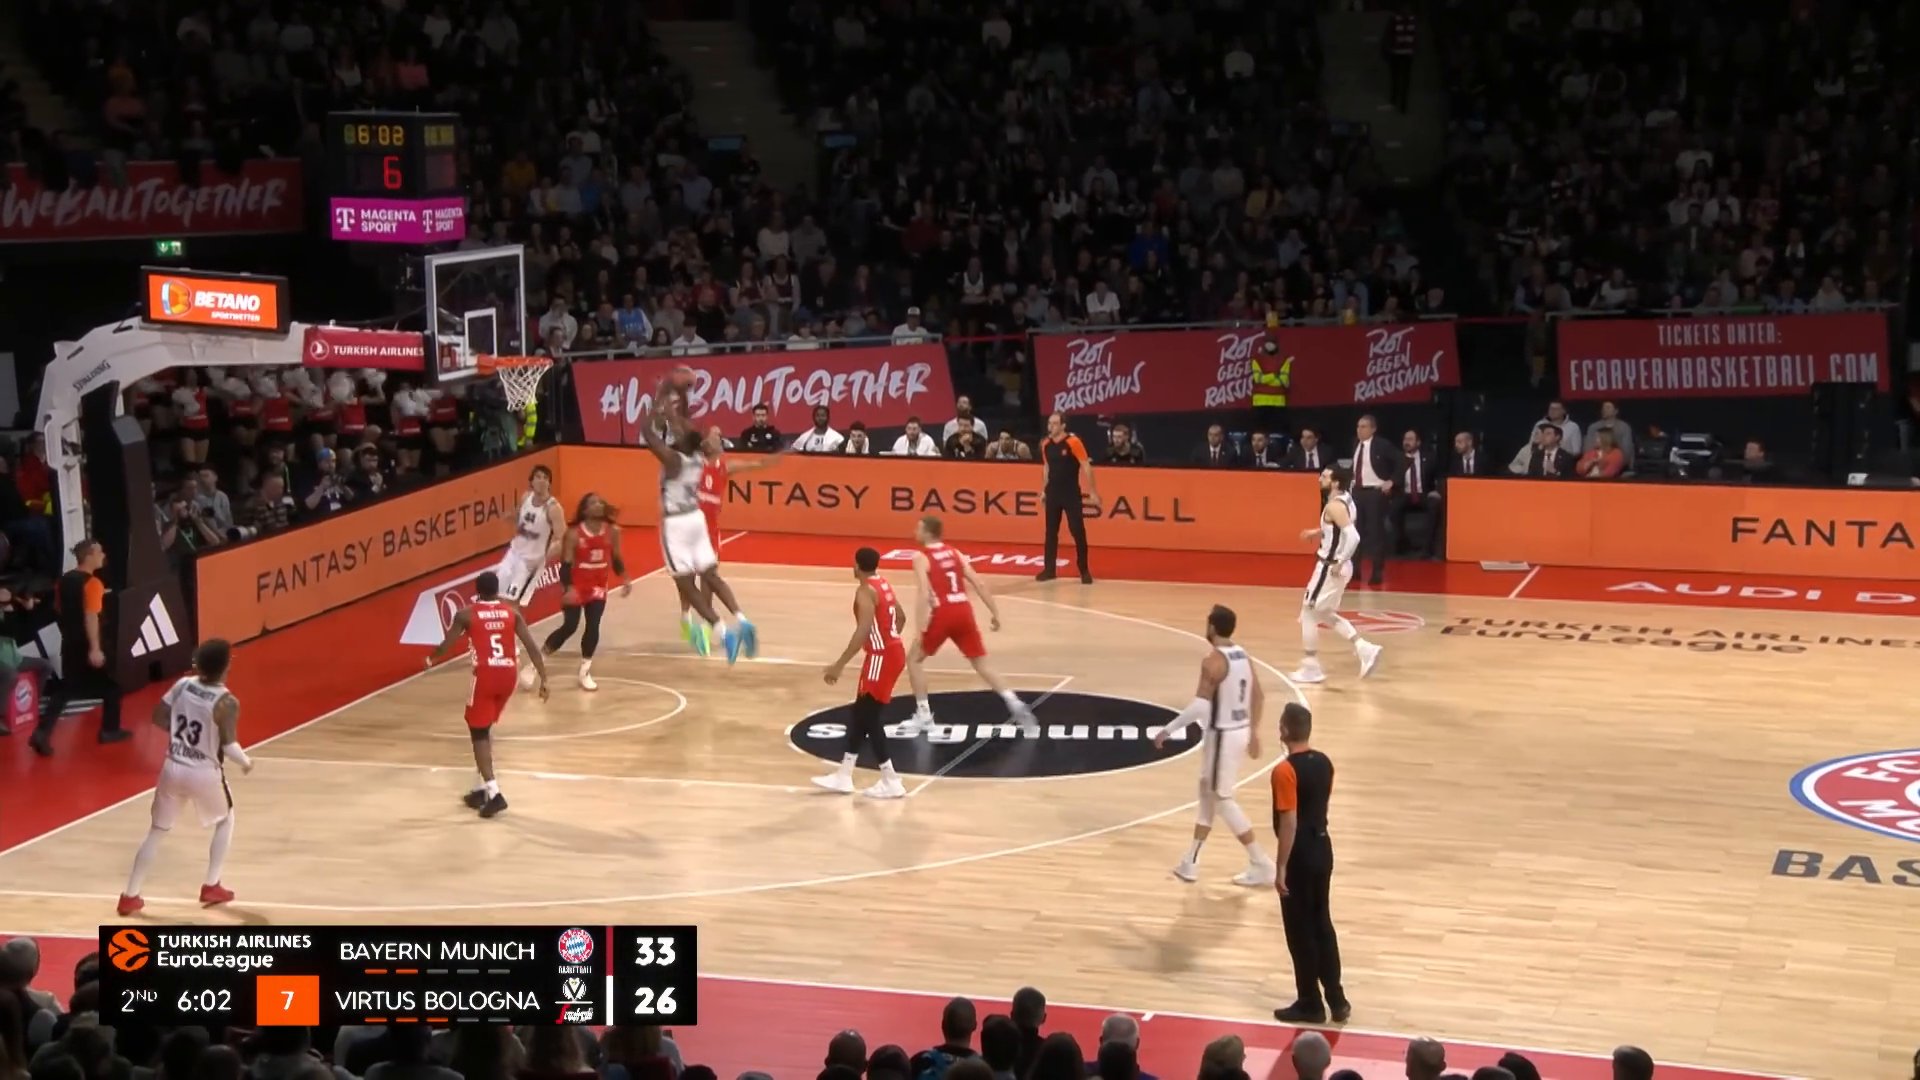ball: (663, 363, 699, 396)
net: (495, 352, 556, 414)
